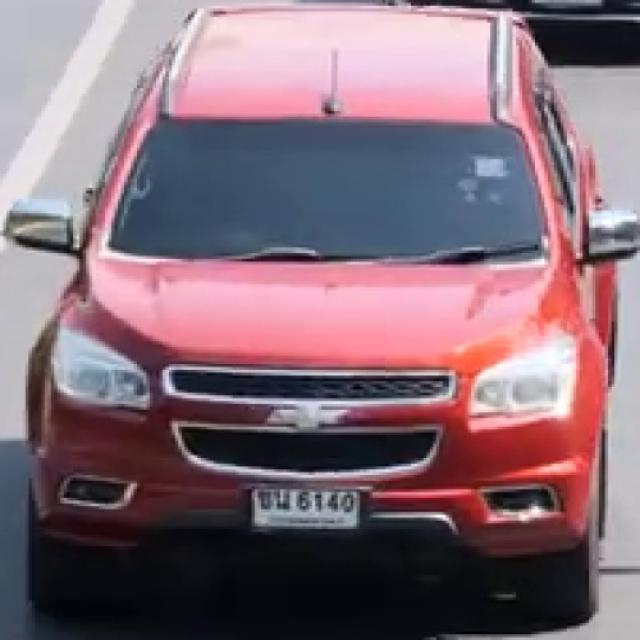plate: (244, 485, 365, 533)
